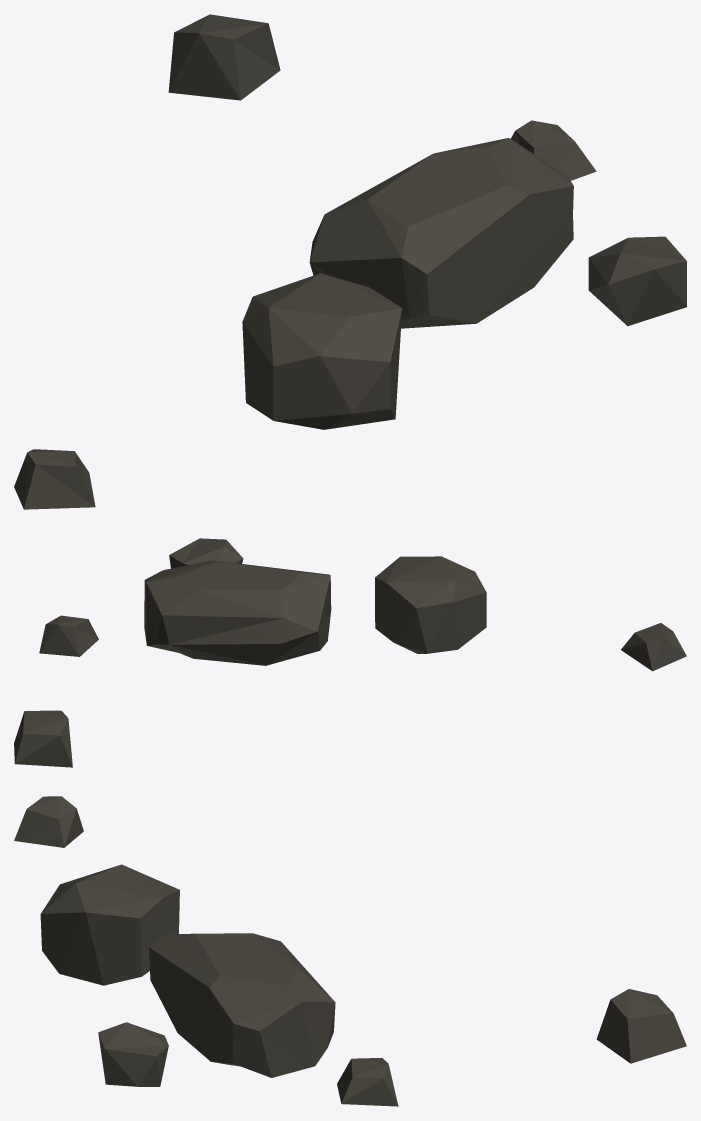
File: synty-terrain-rubble-pebbles-01.gltf
3 views of the same model, one above another, from view 1: azimuth 30°, elevation 25°; view 2: azimuth 150°, elevation 25°; view 3: azimuth 270°, elevation 25° (orthographic). The views are drawn at different scales.
Visible parts, largest first — view 1: SM_Terrain_Rubble_Pebbles_01; view 2: SM_Terrain_Rubble_Pebbles_01; view 3: SM_Terrain_Rubble_Pebbles_01.
Boxes of the visible parts, x1,y1,x2,y2 form: SM_Terrain_Rubble_Pebbles_01: [14, 14, 686, 509]; SM_Terrain_Rubble_Pebbles_01: [14, 538, 686, 767]; SM_Terrain_Rubble_Pebbles_01: [14, 796, 686, 1106].
Size of the model in its own units: 1.92 by 0.2812 by 1.91.
Materials: 1 (1 with a texture image).
